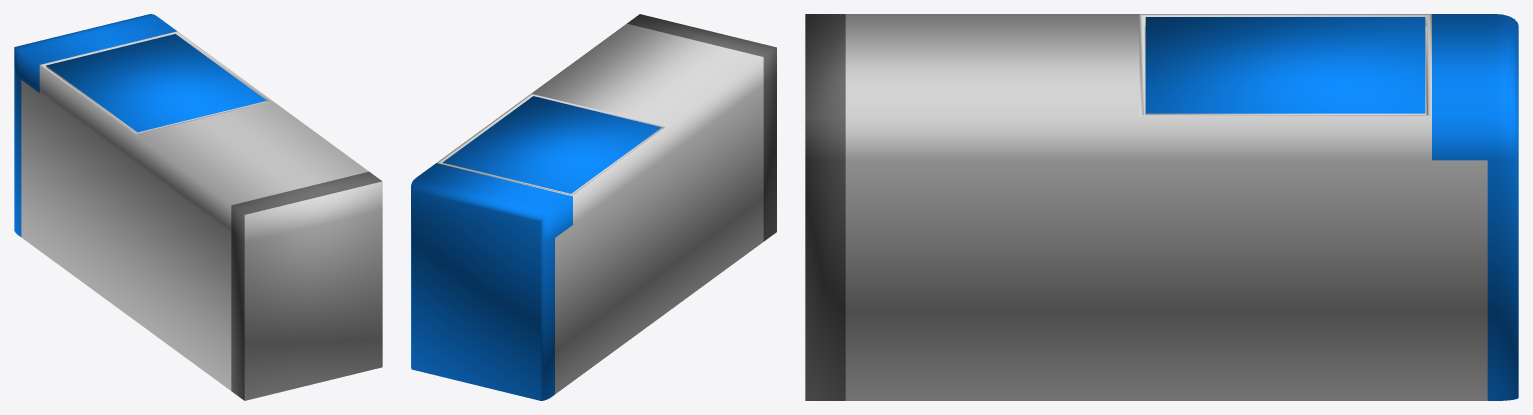
The picture shows the model from 3 angles, left to right: view 1: azimuth 30°, elevation 25°; view 2: azimuth 150°, elevation 25°; view 3: azimuth 270°, elevation 25°; orthographic projection. The views are drawn at different scales.
Visible parts, largest first — view 1: Cube; view 2: Cube; view 3: Cube.
Boxes of the visible parts, <box> form: Cube: <box>14,14,382,400</box>; Cube: <box>411,14,776,400</box>; Cube: <box>805,14,1518,400</box>.
Size of the model in its own units: 45 by 58 by 132.
